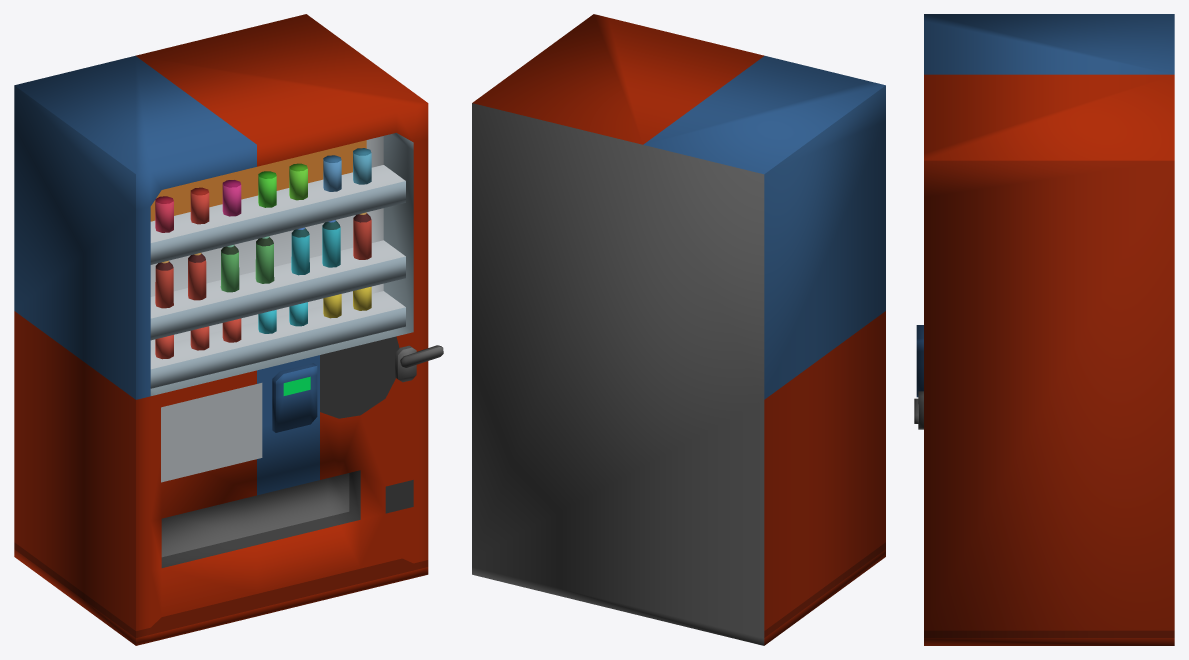
The model's file is furnishings-outdoor-vendingmachine_v2.glb.
3 renders of one model, left to right at view 1: azimuth 30°, elevation 25°; view 2: azimuth 150°, elevation 25°; view 3: azimuth 270°, elevation 25°, orthographic. The views are drawn at different scales.
Parts seen in each view (by area): view 1: VendingMachine_v2_color, VendingMachine_v2_base; view 2: VendingMachine_v2_color; view 3: VendingMachine_v2_color.
Boxes of the visible parts, bbox=[...] form: VendingMachine_v2_color: bbox=[14, 14, 428, 645]; VendingMachine_v2_base: bbox=[150, 133, 443, 482]; VendingMachine_v2_color: bbox=[472, 14, 885, 645]; VendingMachine_v2_color: bbox=[916, 14, 1174, 645].
Size of the model in its own units: 1.58 by 2.35 by 1.14.
